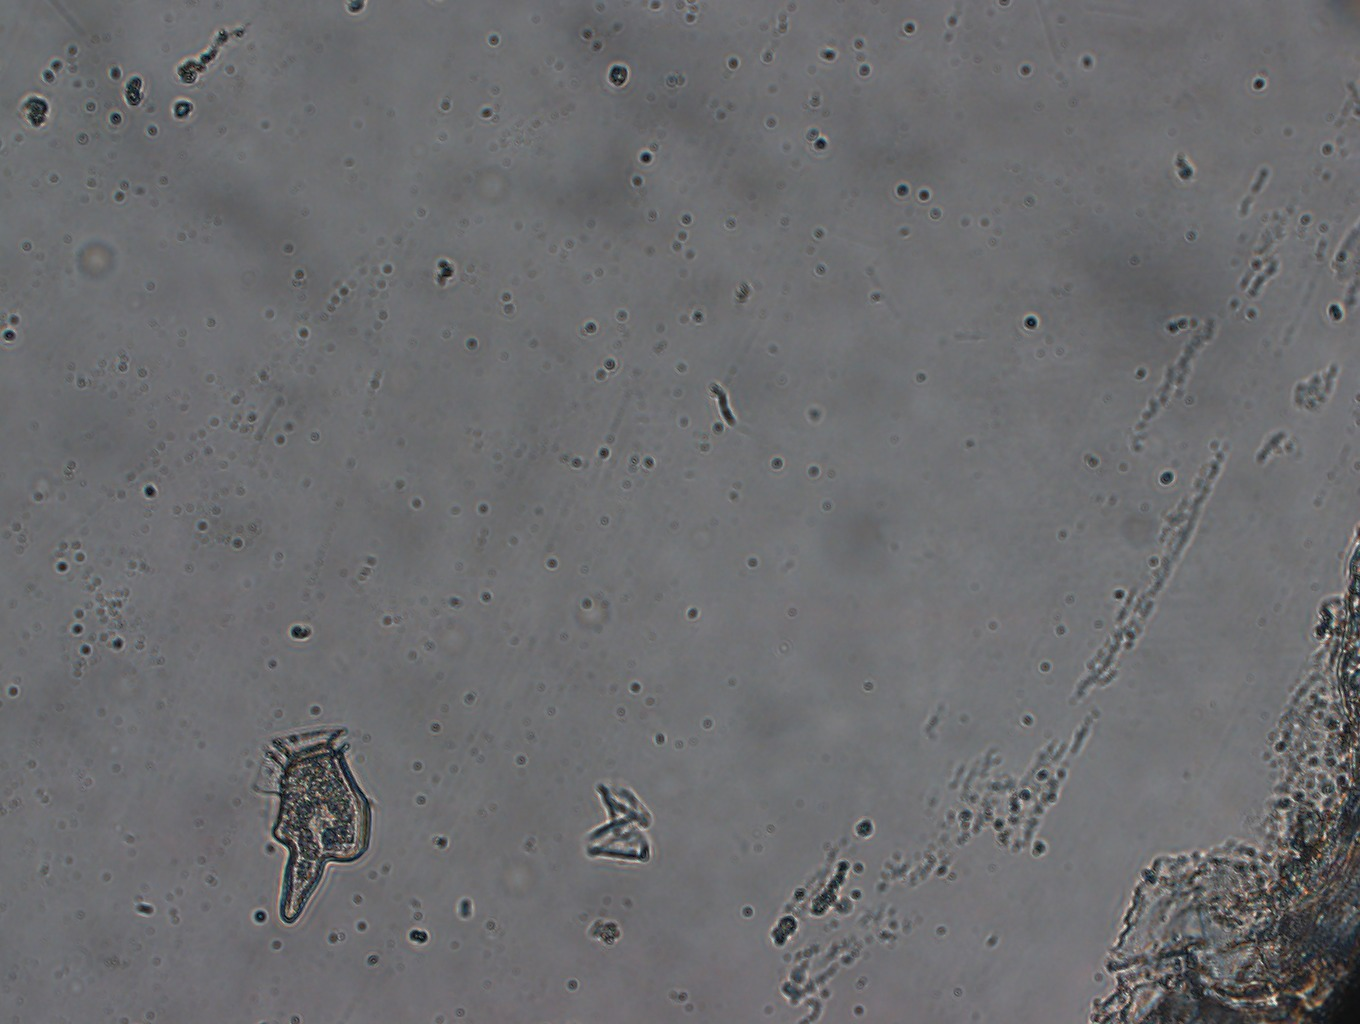dinophysis caudata: (250, 727, 373, 928)
